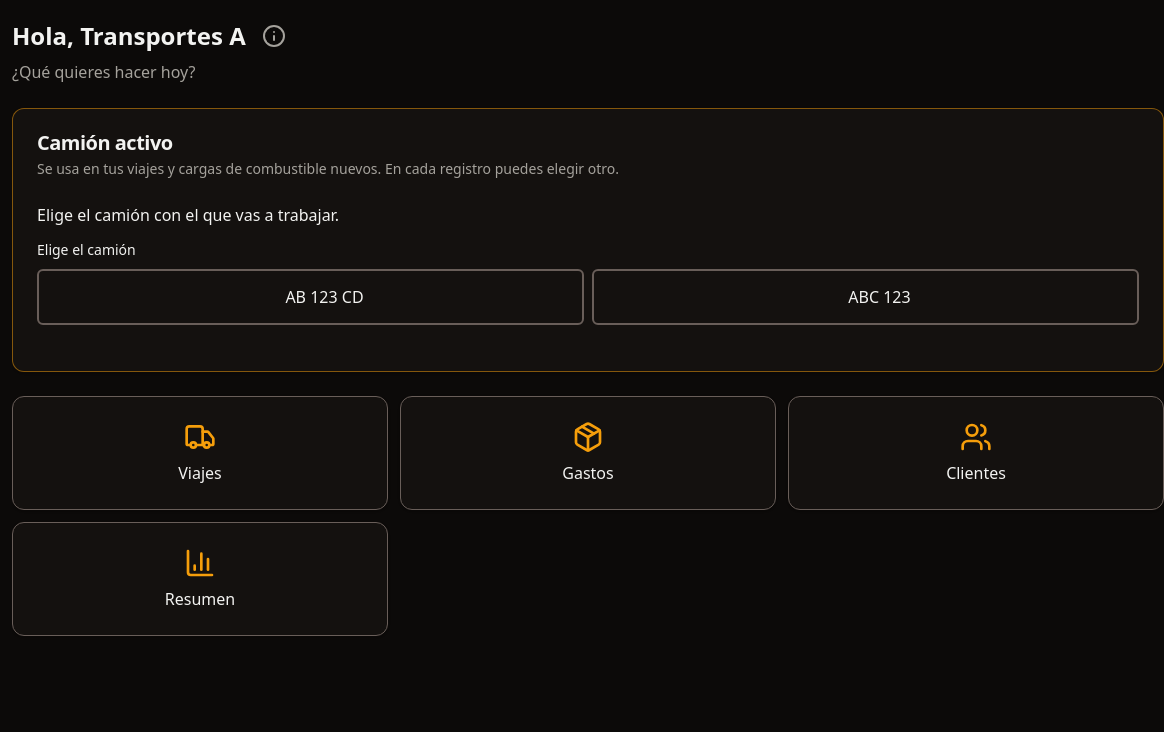
it: tarjeta del camión activo: elegir › sin activo válido: al elegir deja de pedirlo y de destacarse
Click the radio button labelled "AB 123 CD" at (310, 297), box [37,269,584,325]
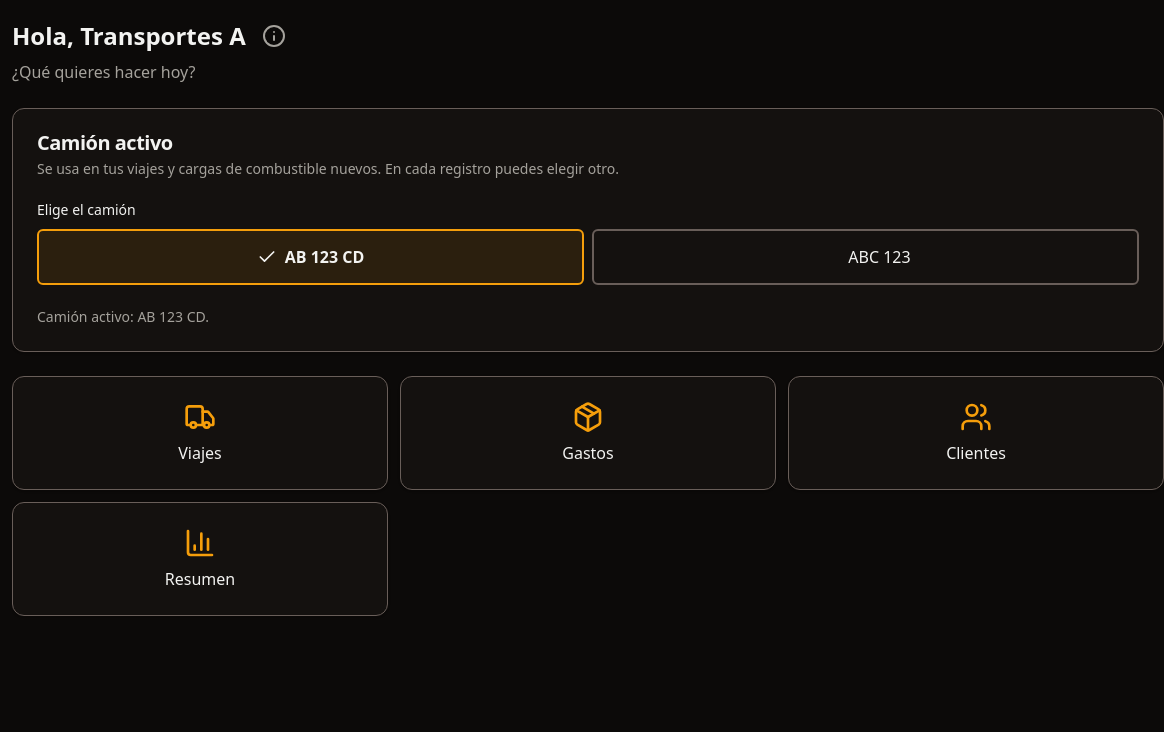
expect the text "AB 123 CD" is shown: met, box [285,247,364,267]
expect the text "Elige el camión con el que vas a trabajar." is gone: met
